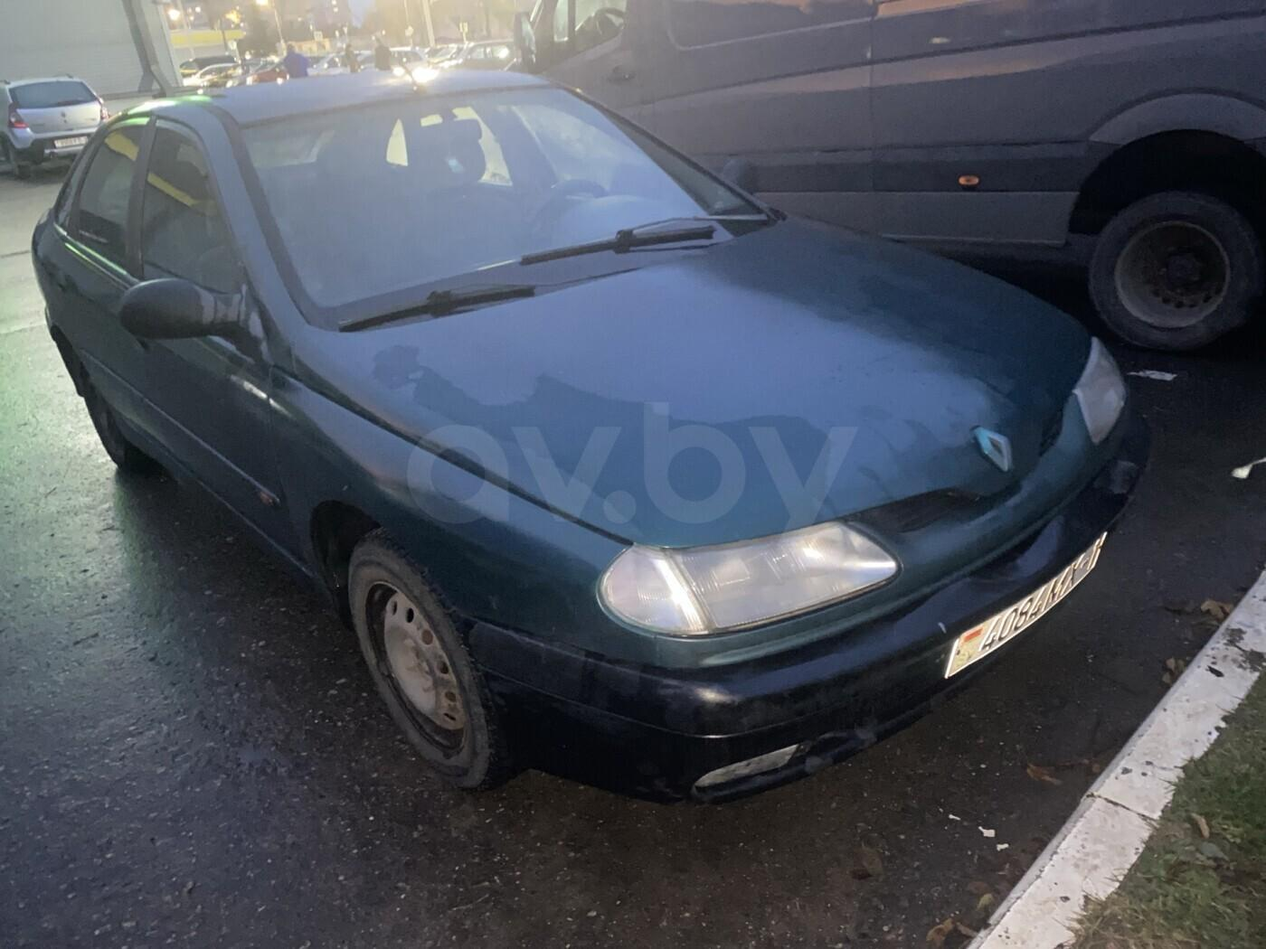Lahuna_1993-1999: (28, 61, 1173, 839)
